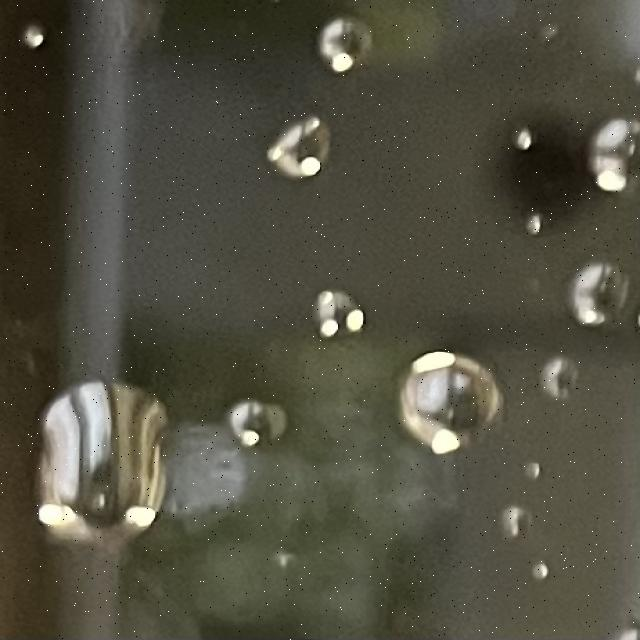raindrop: (28, 374, 171, 556), (383, 345, 503, 461), (566, 253, 640, 334), (310, 13, 389, 80), (267, 107, 341, 178), (215, 391, 291, 454), (304, 278, 369, 348), (587, 107, 631, 196), (486, 496, 540, 552), (527, 354, 582, 406), (17, 23, 59, 58), (515, 213, 554, 240), (516, 115, 552, 144), (516, 458, 548, 485)
